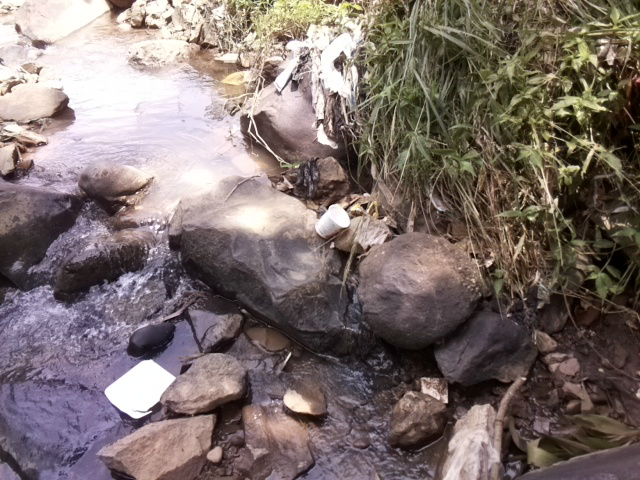Sampah_Styrofoam: (100, 356, 181, 421), (314, 203, 353, 242)
